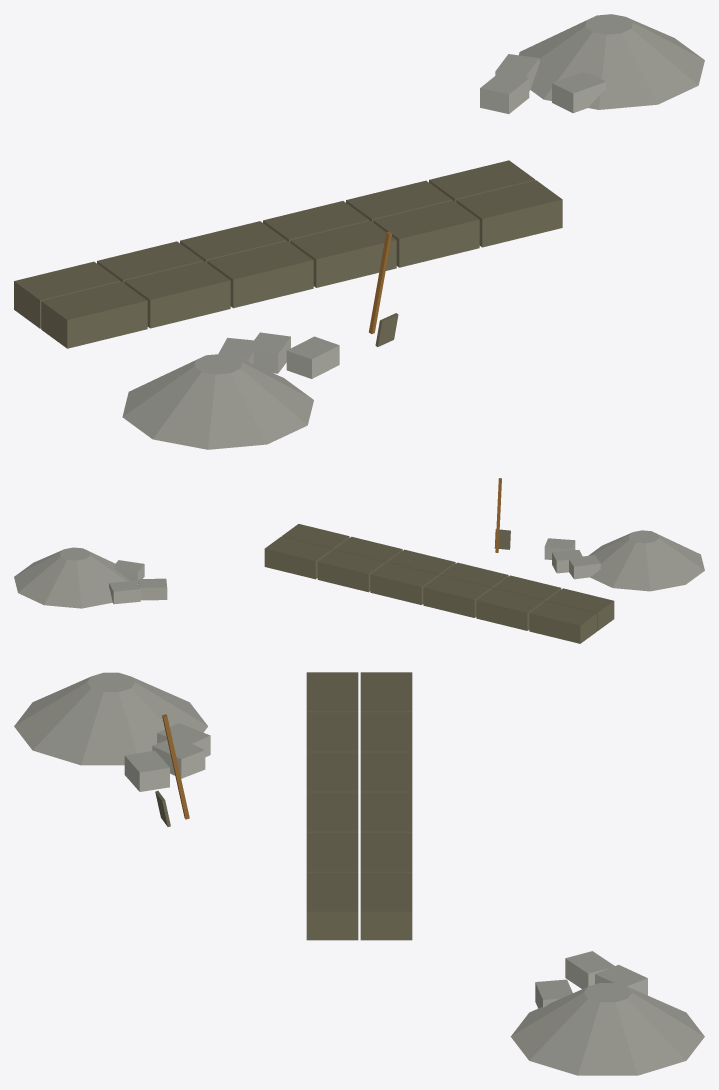
File: SM_ObraReconstruccion_v1_8m_LOD0.fbx
3 views of the same model, one above another, from view 1: azimuth 30°, elevation 25°; view 2: azimuth 150°, elevation 25°; view 3: azimuth 270°, elevation 25° (orthographic). The views are drawn at different scales.
Parts seen in each view (by area): view 1: SM_obra_curso_v42_LOD0; view 2: SM_obra_curso_v42_LOD0; view 3: SM_obra_curso_v42_LOD0.
Boxes of the visible parts, bbox=[...] form: SM_obra_curso_v42_LOD0: bbox=[14, 14, 704, 449]; SM_obra_curso_v42_LOD0: bbox=[14, 478, 704, 643]; SM_obra_curso_v42_LOD0: bbox=[14, 672, 704, 1075].
Size of the model in its own units: 8.51 by 1.11 by 6.4.
